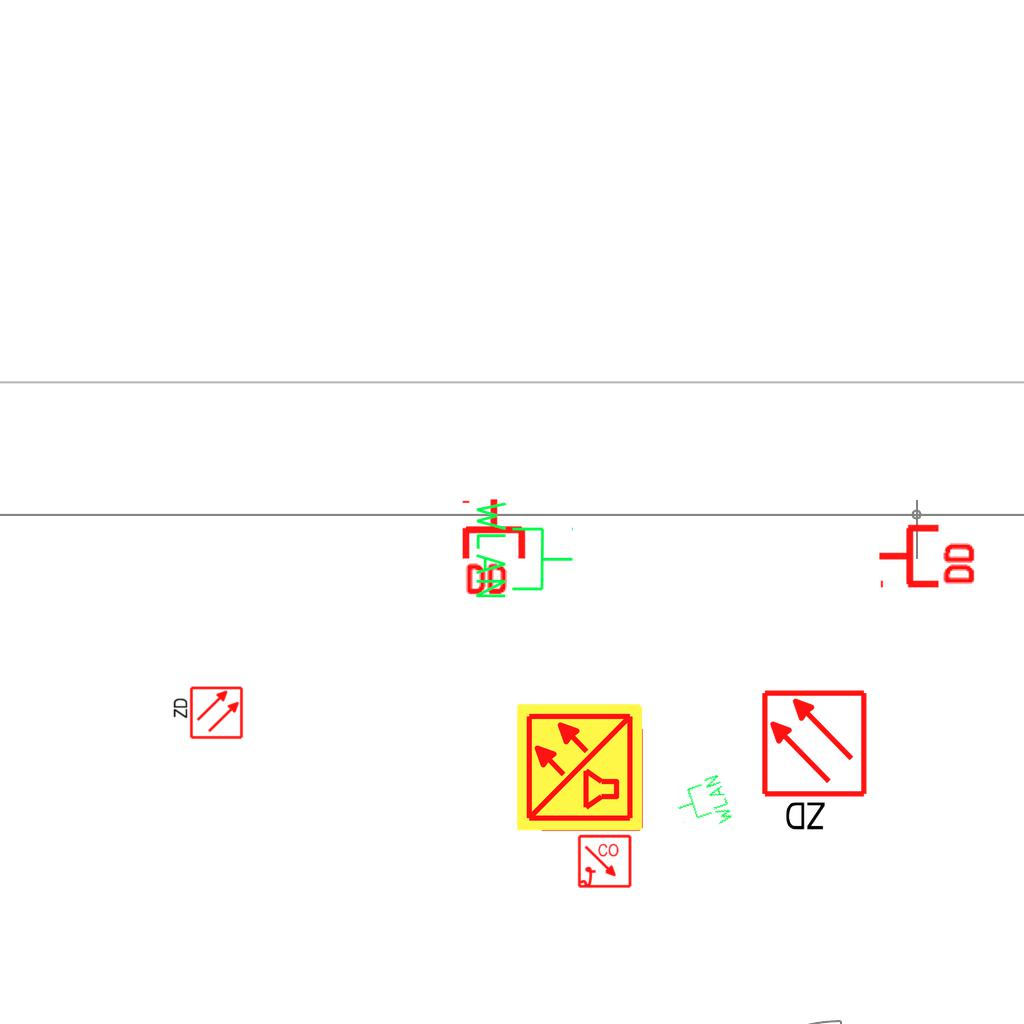Datenanschluss_zweifach: (876, 520, 979, 589), (461, 496, 530, 599)
OKW_Multisensormelder_(Kombination_optischer_Rauch-Kahlenmonoxid_Waerme-Melder): (514, 701, 646, 833)
ROA_Rauchmelder_optisch_mit_Signalgeber_(Sockelsirene): (577, 834, 633, 890)
WLAN: (472, 497, 576, 602), (669, 771, 737, 839)
ZD_Melder_in_Zwischendecke_mit_Revisionsoeffnung_mind_40_x_40_cm: (759, 688, 873, 837), (170, 685, 244, 742)
